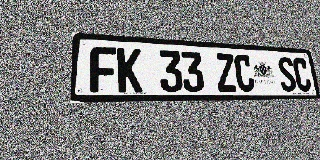3: (159, 50, 183, 92), (181, 51, 204, 92)
C: (233, 54, 255, 92), (292, 57, 312, 91)
F: (90, 46, 117, 92)
K: (117, 48, 142, 92)
S: (277, 57, 297, 92)
Z: (215, 53, 237, 92)
